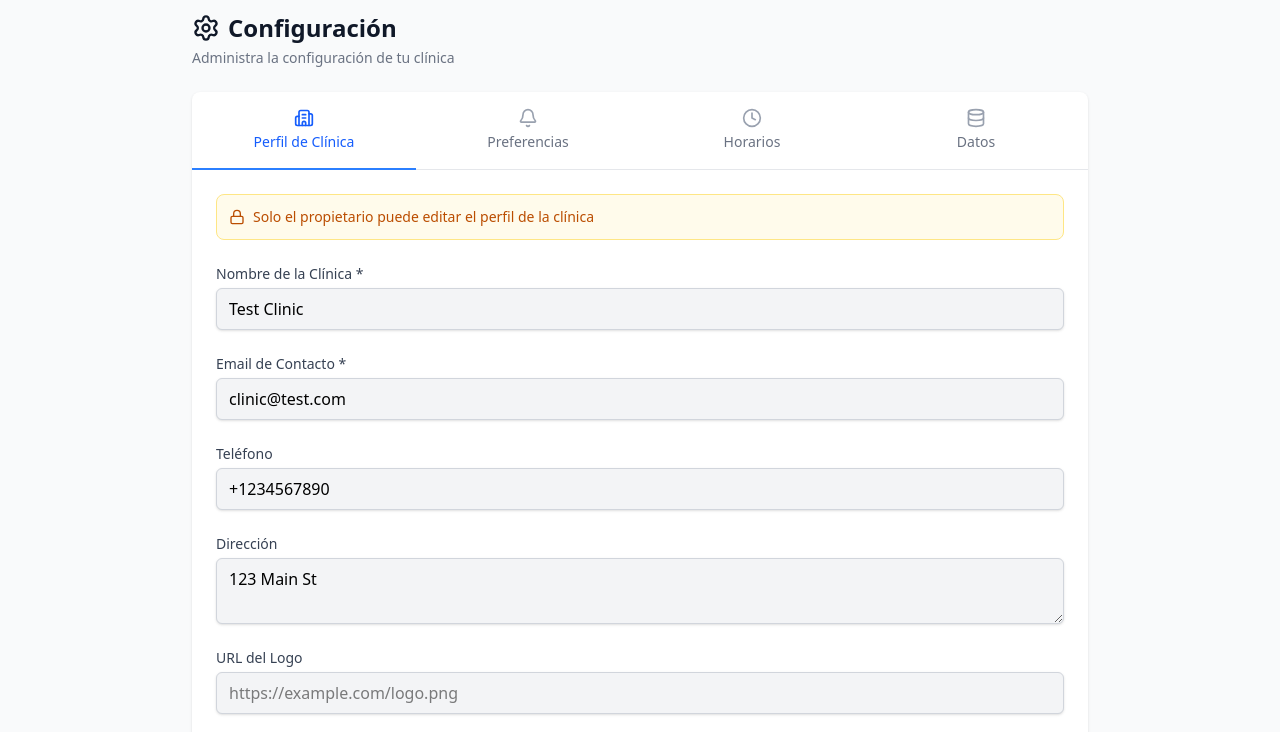
SettingsPage › should allow ADMIN to edit preferences
Click the button "Preferencias" at (528, 131), box [416,92,640,170]
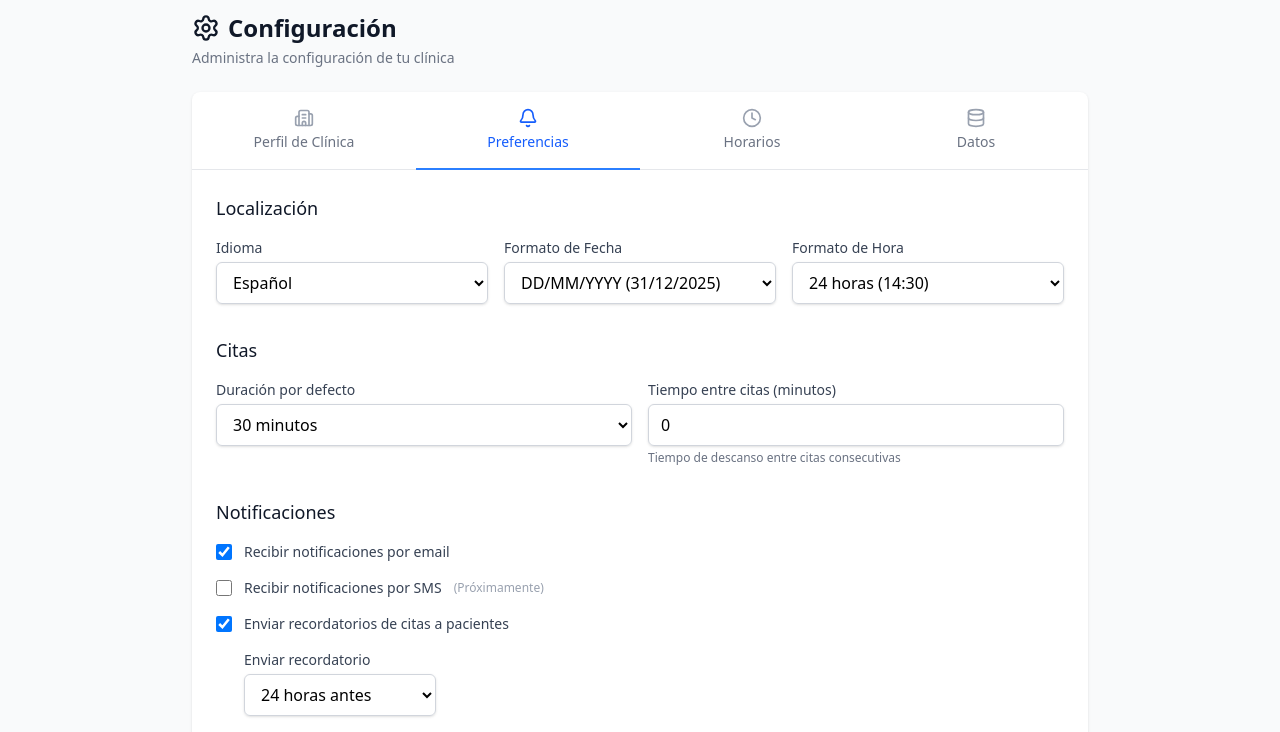
Check: the dropdown labelled "Idioma" is enabled, box [216,262,488,304]
